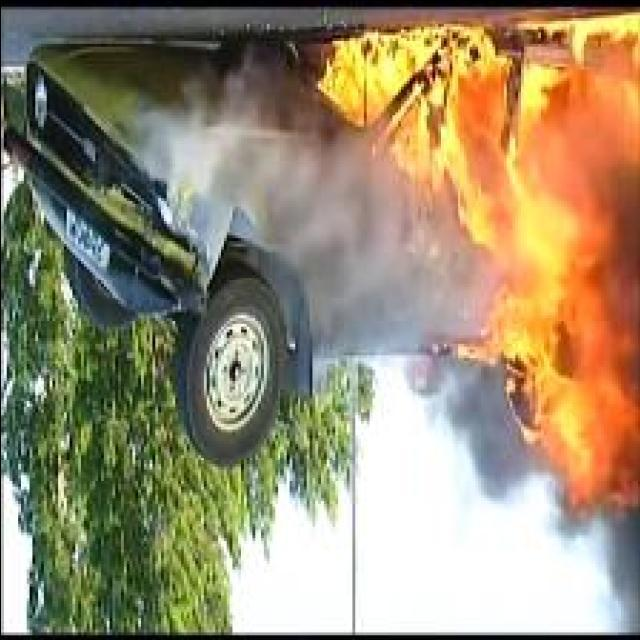Fire: (314, 10, 640, 519)
